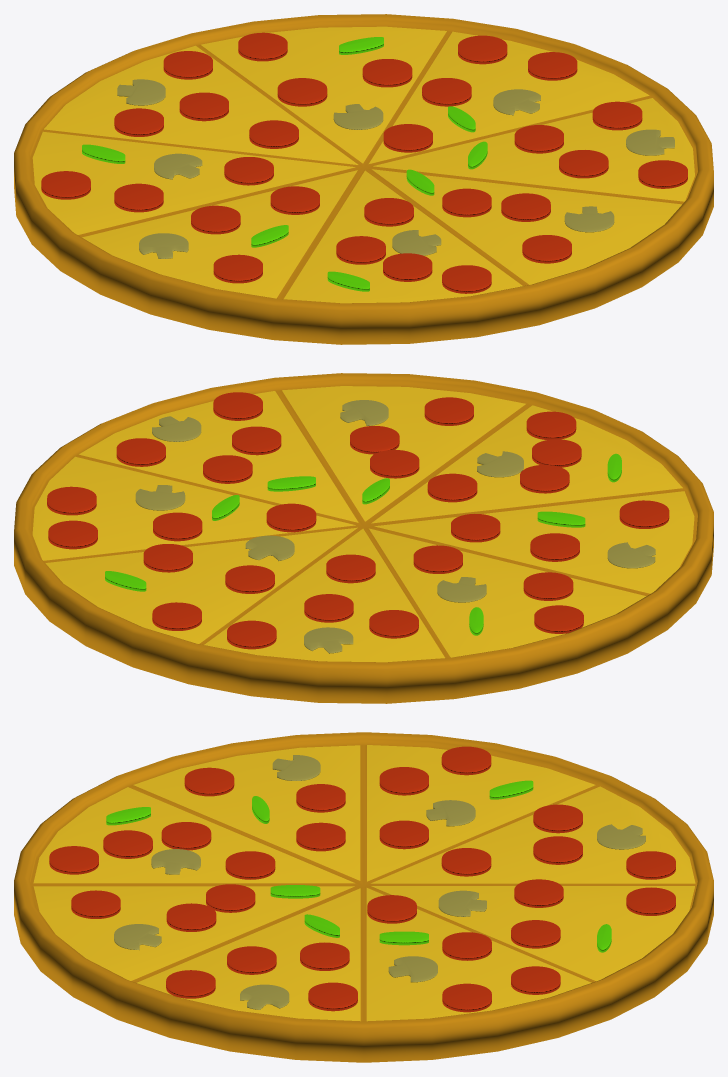
The model's file is pizza.fbx.
3 views of the same model, one above another, from view 1: azimuth 30°, elevation 25°; view 2: azimuth 150°, elevation 25°; view 3: azimuth 270°, elevation 25° (orthographic).
Visible parts, largest first — view 1: pizza; view 2: pizza; view 3: pizza.
Part boxes in pixels (bbox=[...]): pizza: bbox=[14, 14, 713, 344]; pizza: bbox=[14, 373, 713, 703]; pizza: bbox=[14, 732, 713, 1062].
Size of the model in its own units: 200 by 11.92 by 200.
